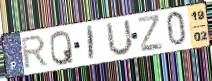0: (165, 9, 189, 49)
I: (87, 24, 96, 63)
Q: (49, 29, 76, 67)
R: (20, 33, 50, 72)
U: (106, 18, 134, 59)
Z: (137, 13, 165, 53)
